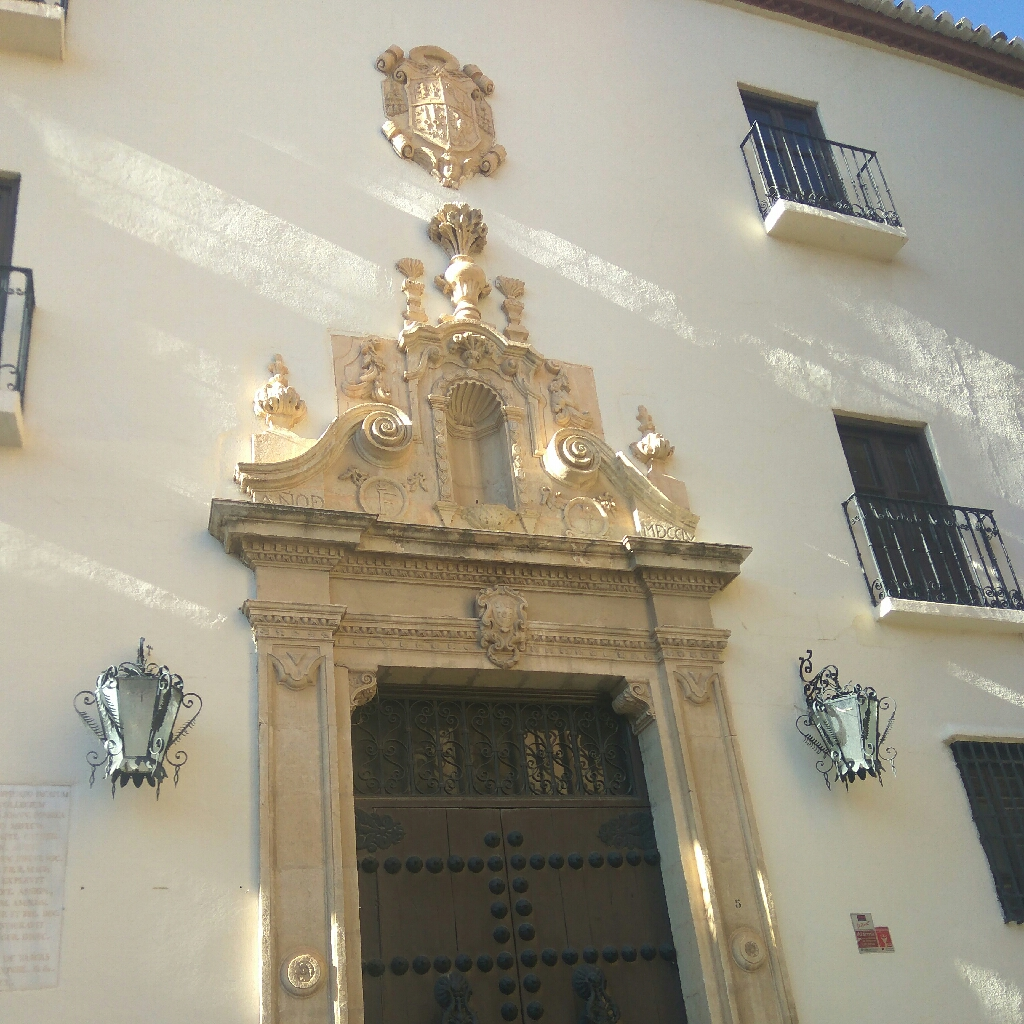fronton-partido: (236, 401, 702, 561)
vano-adintelado: (324, 629, 720, 1024)
